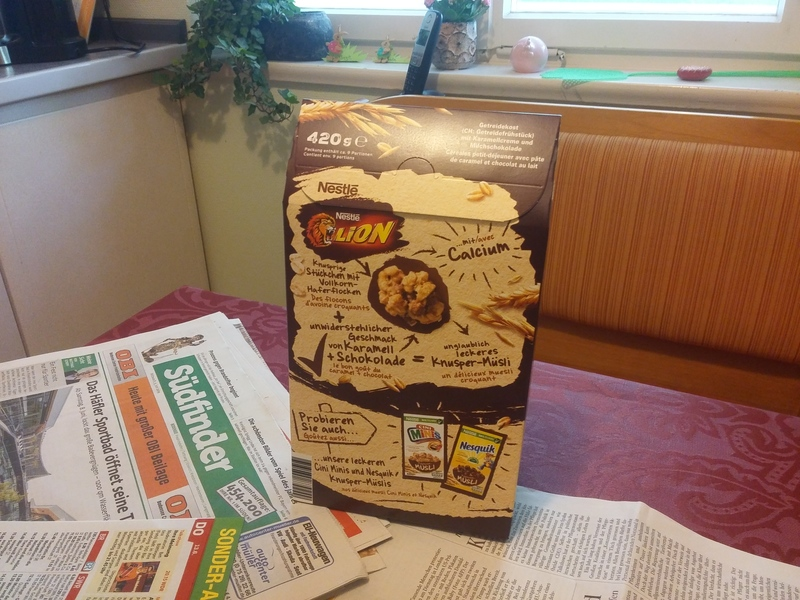cereals: (279, 97, 563, 542)
